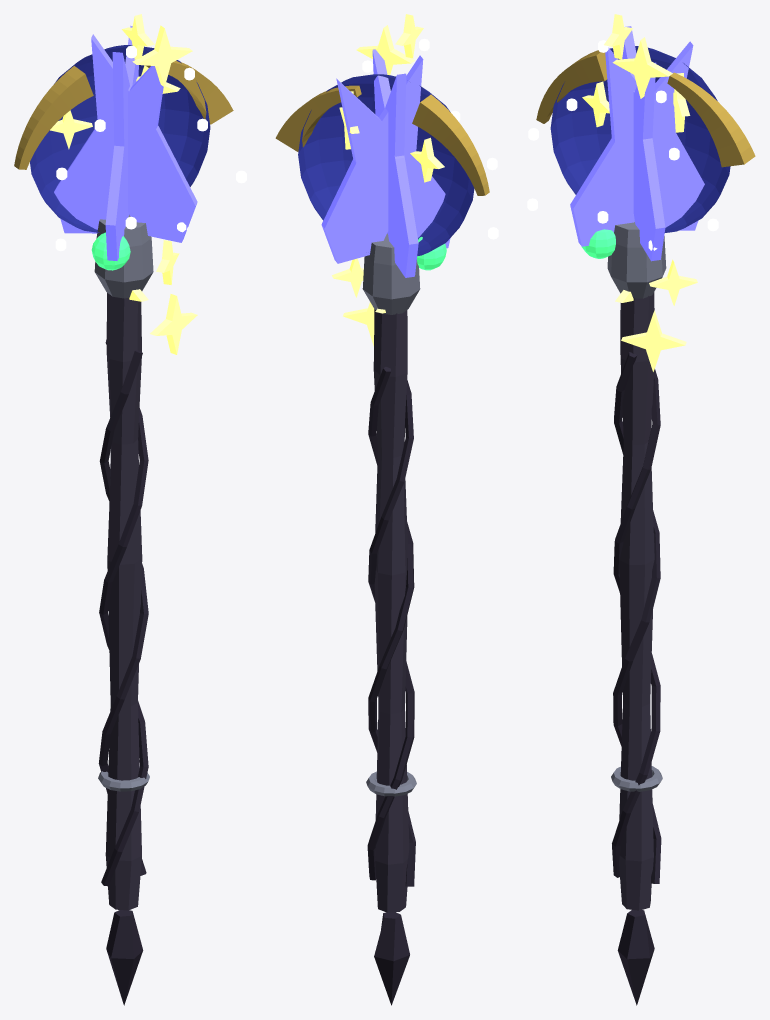
File: staff_stardome.glb
The picture shows the model from 3 angles, left to right: view 1: azimuth 30°, elevation 25°; view 2: azimuth 150°, elevation 25°; view 3: azimuth 330°, elevation 25°; orthographic projection. The views are drawn at different scales.
Parts seen in each view (by area): view 1: Sd_Shaft, Sd_Dome, Sd_Petal1, Sd_Petal3, Sd_Twist1, Sd_Twist0, Sd_BranchL, Sd_Collar, Sd_Petal2, Sd_Butt, Sd_BranchR, Sd_Petal0 (+5 smaller); view 2: Sd_Shaft, Sd_Dome, Sd_Petal2, Sd_Petal0, Sd_Twist0, Sd_Petal1, Sd_Twist1, Sd_Collar, Sd_BranchL, Sd_Butt, Sd_BranchR, Sd_Petal3 (+2 smaller); view 3: Sd_Shaft, Sd_Dome, Sd_Petal0, Sd_Petal2, Sd_Twist1, Sd_Twist0, Sd_Petal3, Sd_BranchR, Sd_Collar, Sd_Butt, Sd_BranchL, Sd_Petal1 (+6 smaller).
Part boxes in pixels (x1,y1,x2,y2): Sd_Shaft: (105,293,142,910); Sd_Dome: (30,45,210,232); Sd_Petal1: (54,66,163,233); Sd_Petal3: (91,34,197,242); Sd_Twist1: (99,339,148,886); Sd_Twist0: (98,350,148,875); Sd_BranchL: (14,66,93,169); Sd_Collar: (94,215,153,298); Sd_Petal2: (105,25,138,260); Sd_Butt: (106,910,143,1005); Sd_BranchR: (145,60,233,124); Sd_Petal0: (112,52,129,214); Sd_Shaft: (373,309,409,912); Sd_Dome: (298,74,474,255); Sd_Petal2: (336,78,450,248); Sd_Petal0: (321,55,423,263); Sd_Twist0: (367,380,414,880); Sd_Petal1: (372,49,418,277); Sd_Twist1: (368,367,415,886); Sd_Collar: (362,233,420,314); Sd_BranchL: (412,94,489,195); Sd_Butt: (374,912,409,1005); Sd_BranchR: (275,85,361,151); Sd_Petal3: (385,73,406,233); Sd_Shaft: (619,292,654,910); Sd_Dome: (550,46,730,232); Sd_Petal0: (605,47,704,230); Sd_Petal2: (570,41,693,246); Sd_Twist1: (612,369,660,877); Sd_Twist0: (613,352,661,883); Sd_Petal3: (622,26,665,261); Sd_BranchR: (667,72,755,167); Sd_Collar: (607,222,666,298); Sd_Butt: (617,910,654,1005); Sd_BranchL: (536,50,607,123); Sd_Petal1: (633,62,656,201).
Bounding box in the file's own units: 0.5235 × 2.37 × 0.2718.
